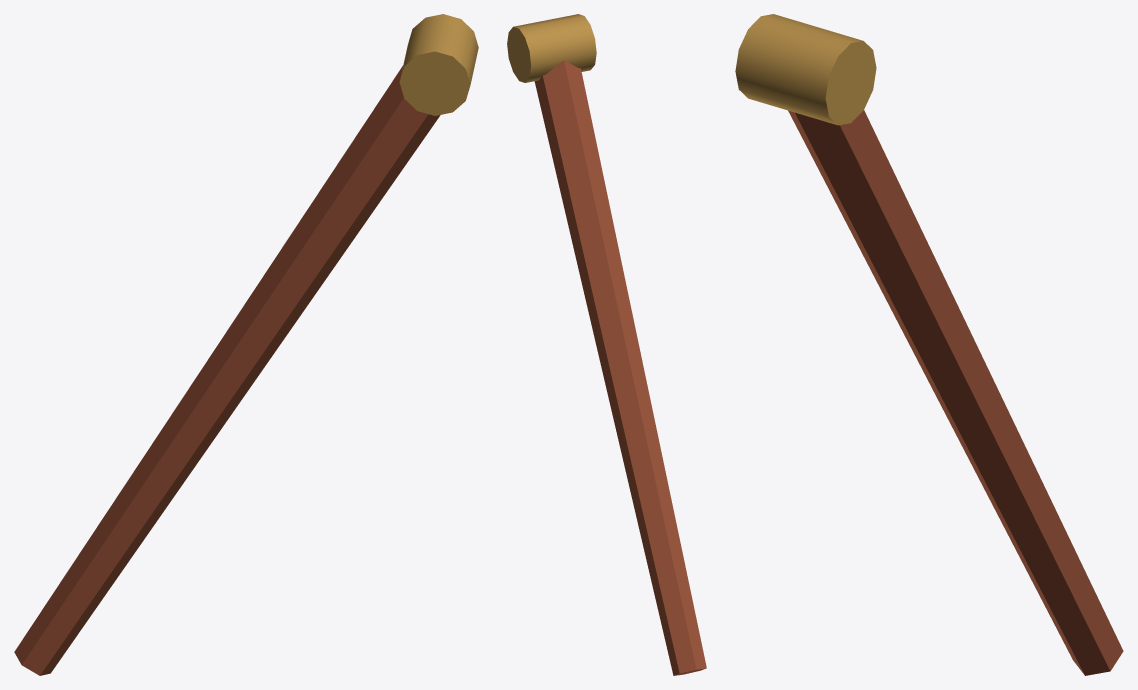
File: rm2_leg_rr_tibia.obj
3 renders of one model, left to right at view 1: azimuth 30°, elevation 25°; view 2: azimuth 150°, elevation 25°; view 3: azimuth 270°, elevation 25°, orthographic. The views are drawn at different scales.
Parts seen in each view (by area): view 1: rm2_leg_rr_tibia; view 2: rm2_leg_rr_tibia; view 3: rm2_leg_rr_tibia.
Boxes of the visible parts, left/top/right/bottom form: rm2_leg_rr_tibia: left=14, top=14, right=478, bottom=675; rm2_leg_rr_tibia: left=507, top=14, right=706, bottom=675; rm2_leg_rr_tibia: left=735, top=14, right=1123, bottom=675.
Bounding box in the file's own units: 0.4562 × 0.8124 × 0.3515.
